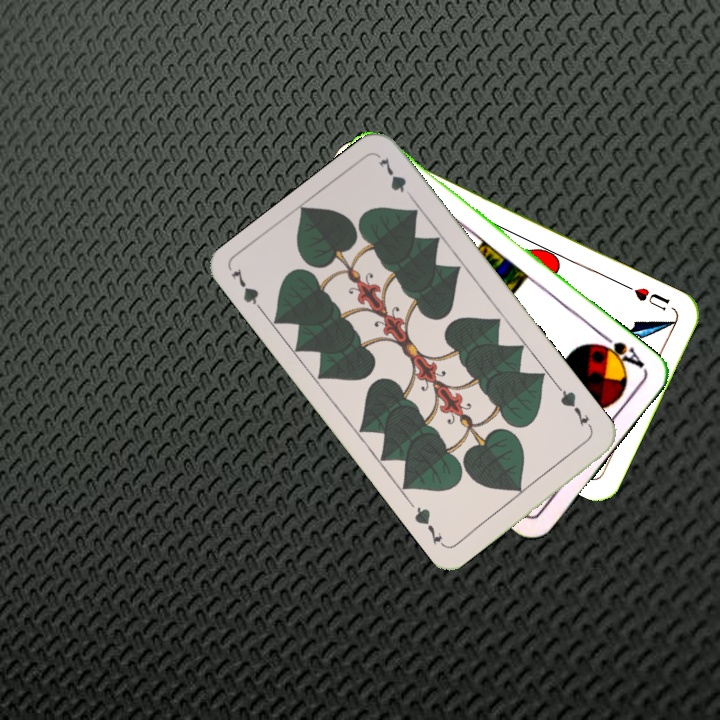G7: (227, 264, 269, 319), (554, 383, 595, 433)
HU: (630, 283, 673, 313)
SA: (593, 330, 648, 374)
